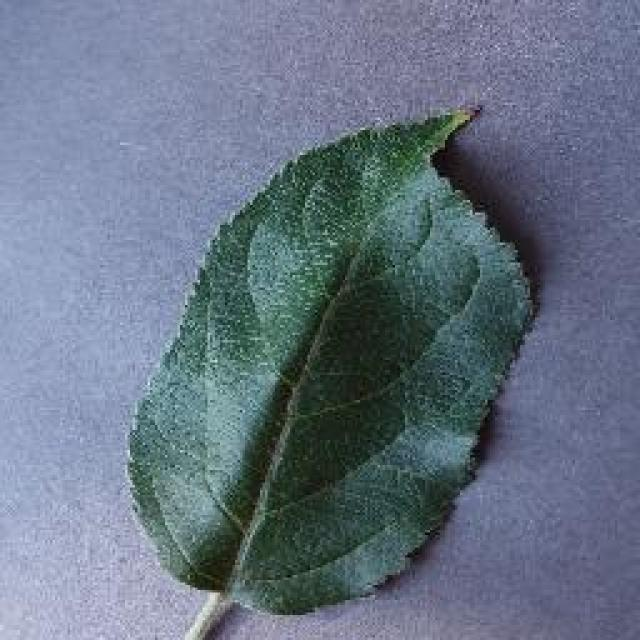apple healthy: (122, 100, 538, 620)
